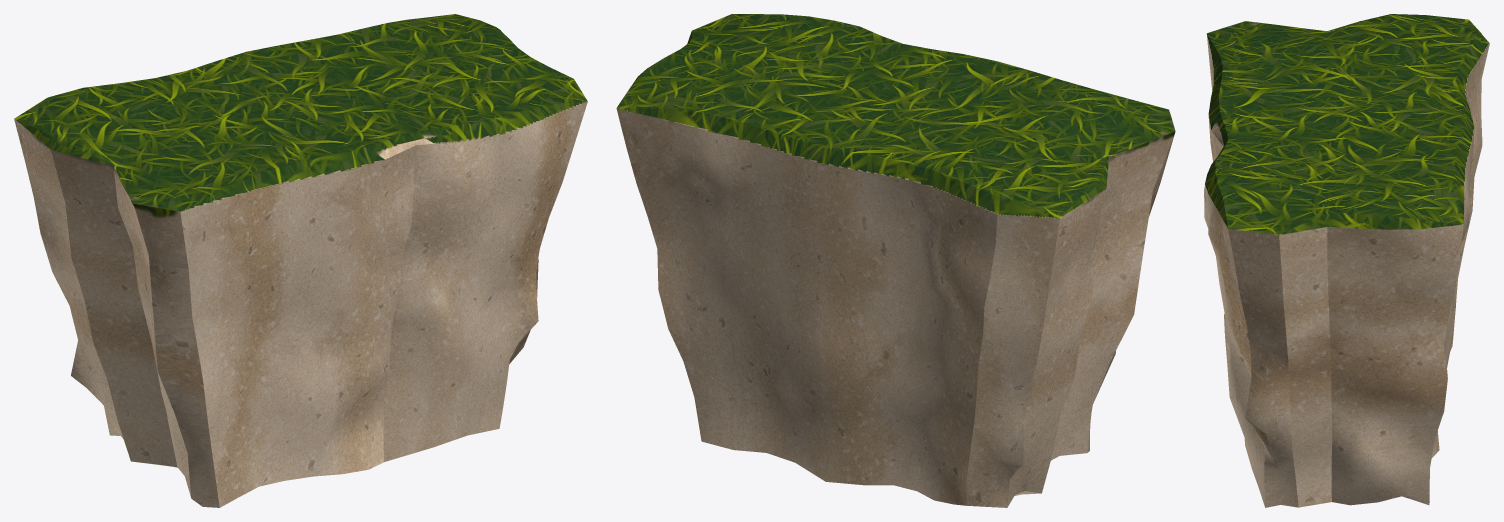
File: Knight-envi-Plat 1.fbx
The picture shows the model from 3 angles, left to right: view 1: azimuth 30°, elevation 25°; view 2: azimuth 150°, elevation 25°; view 3: azimuth 270°, elevation 25°; orthographic projection. The views are drawn at different scales.
Parts seen in each view (by area): view 1: polySurface234; view 2: polySurface234; view 3: polySurface234.
Boxes of the visible parts, left/top/right/bottom form: polySurface234: left=14, top=14, right=587, bottom=507; polySurface234: left=616, top=14, right=1175, bottom=507; polySurface234: left=1204, top=14, right=1489, bottom=507.
Bounding box in the file's own units: 6.57 × 4.7 × 3.65.
Materials: 1 (1 with a texture image).
